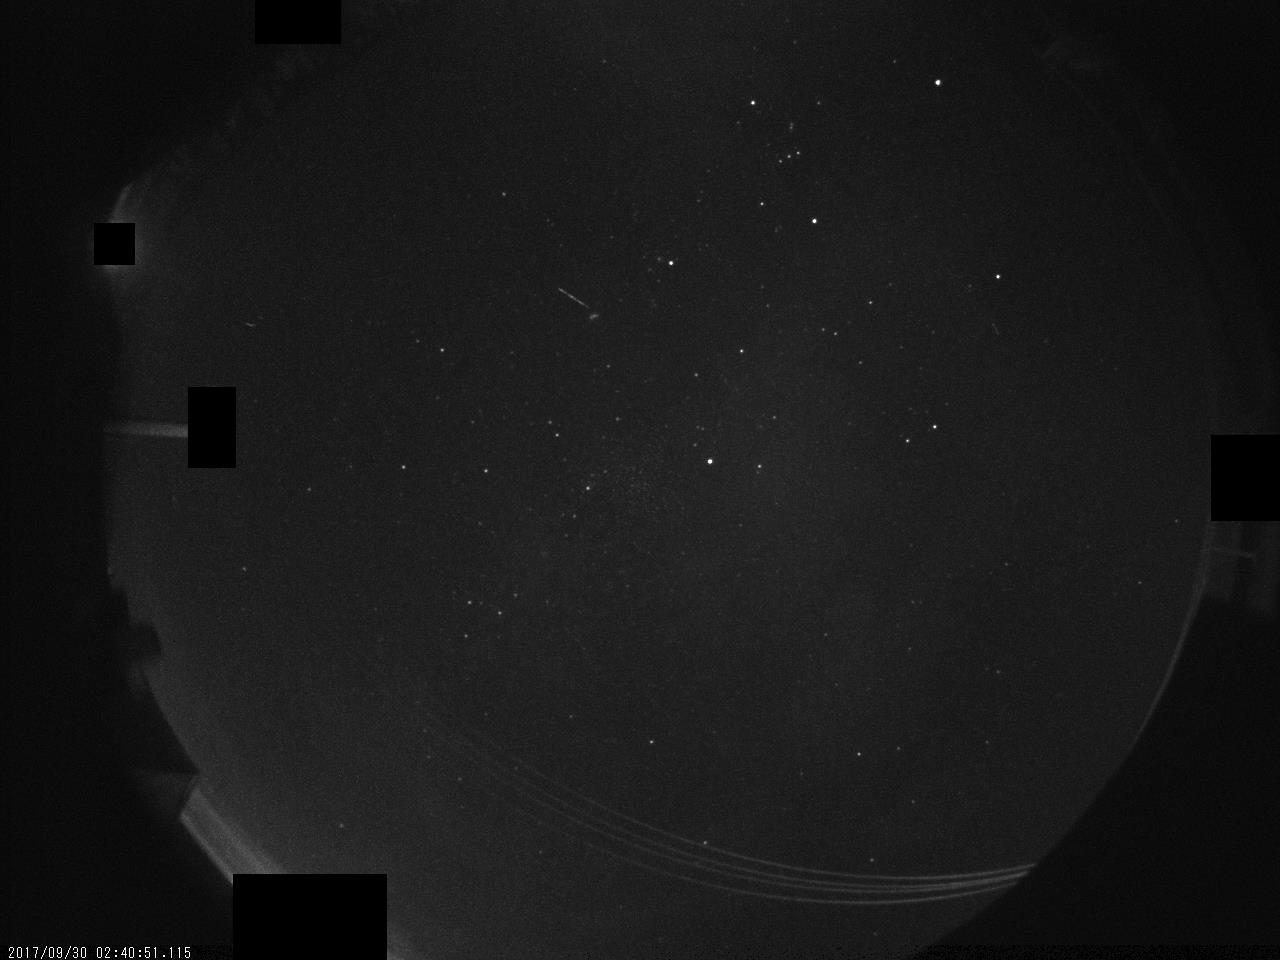TLE: (234, 306, 272, 338)
